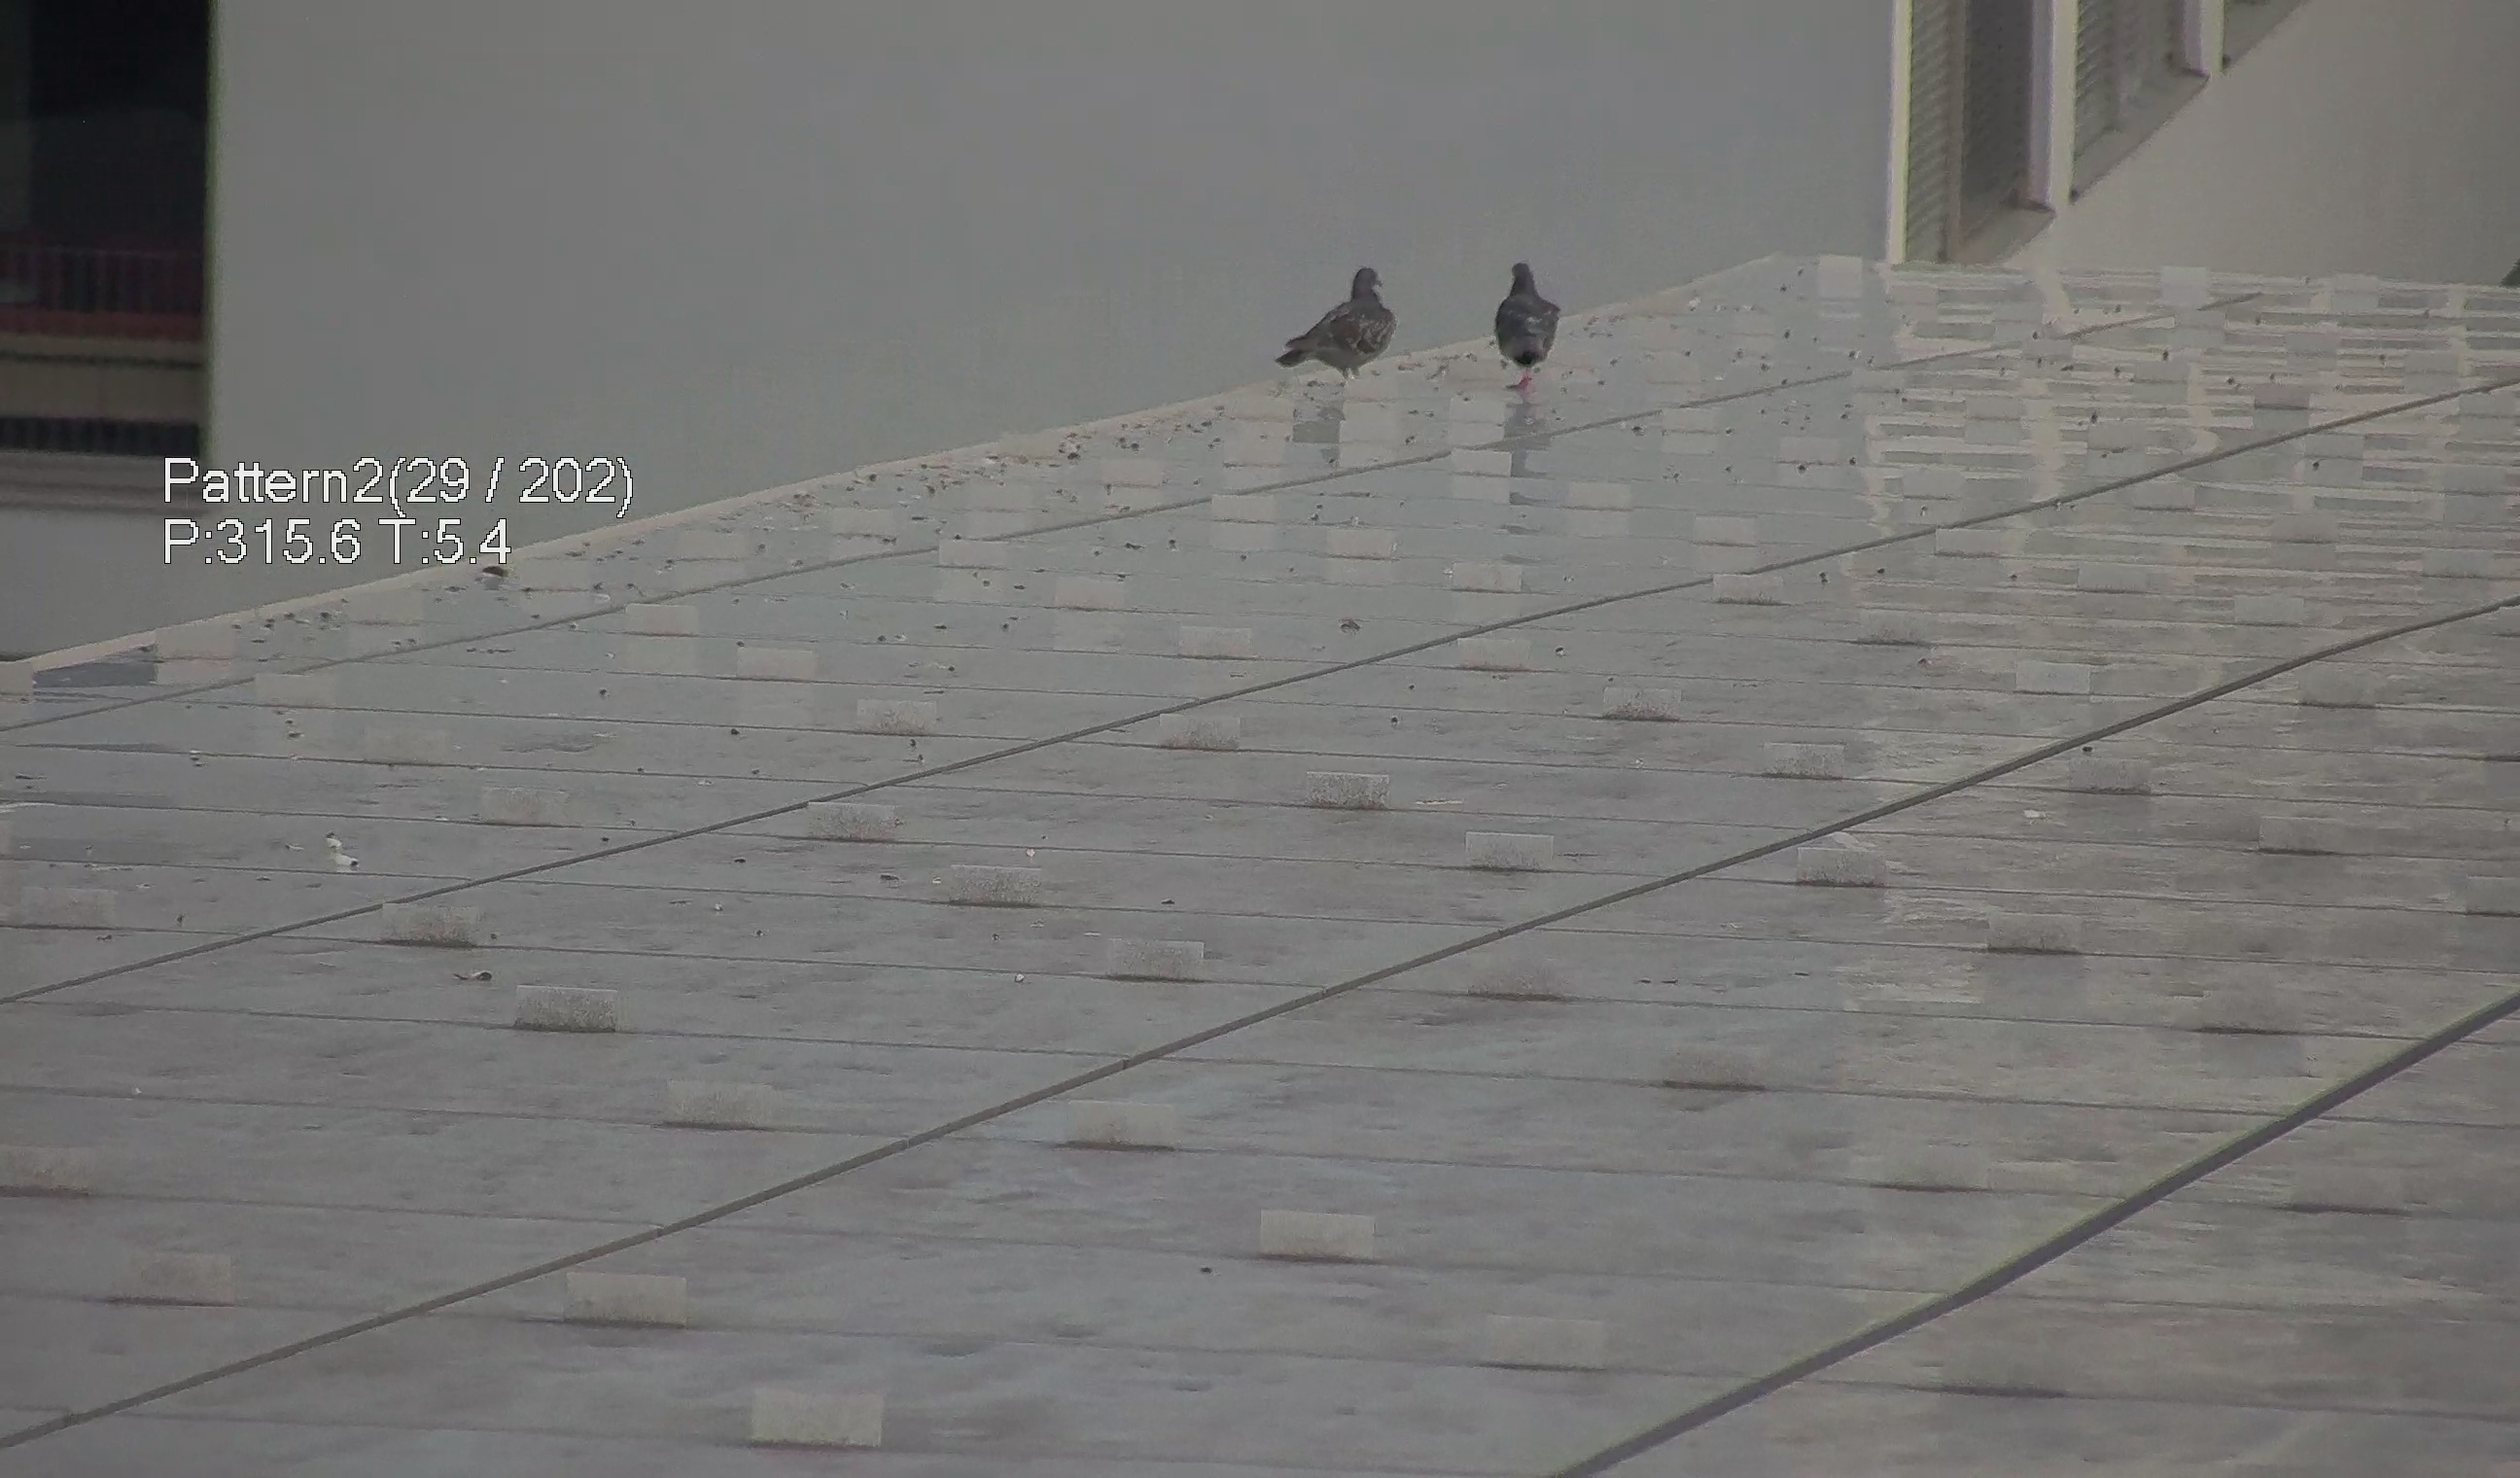Pigeon: (1270, 253, 1405, 389), (1482, 241, 1581, 396)
